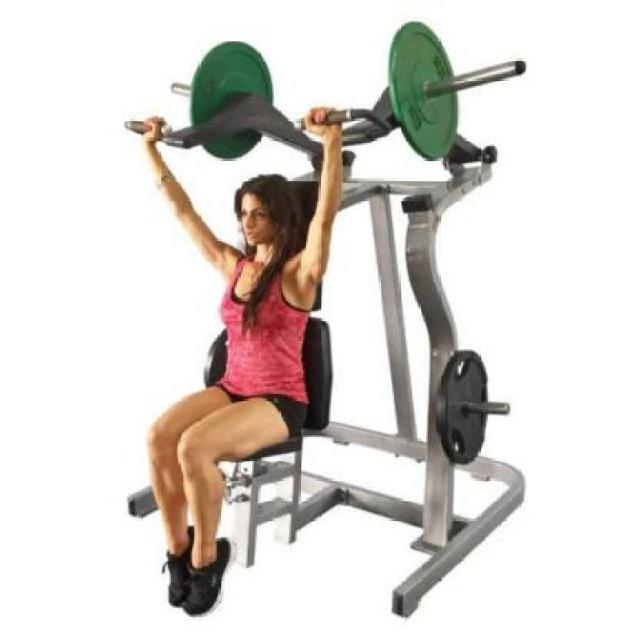shoulder press machine: (72, 20, 594, 620)
